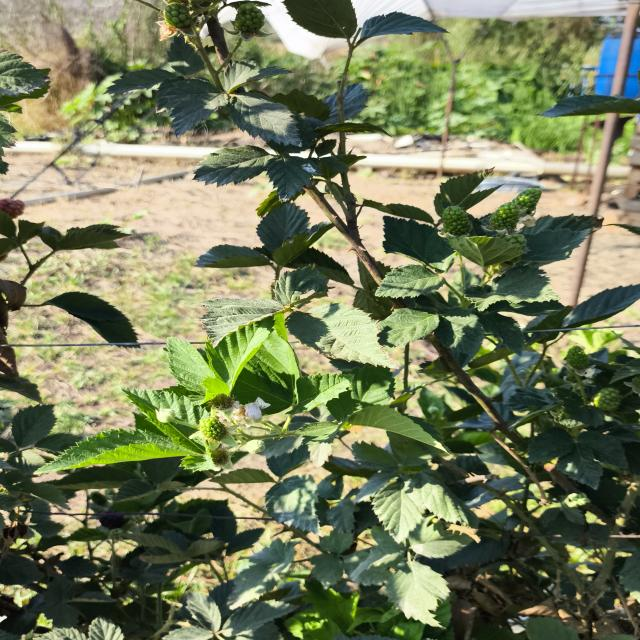boton: (244, 439, 265, 453), (156, 408, 175, 423)
verde: (233, 2, 265, 40), (490, 202, 524, 230), (441, 206, 470, 235), (198, 416, 229, 442), (164, 2, 192, 28), (512, 188, 541, 213), (593, 387, 620, 411), (566, 346, 589, 369)
